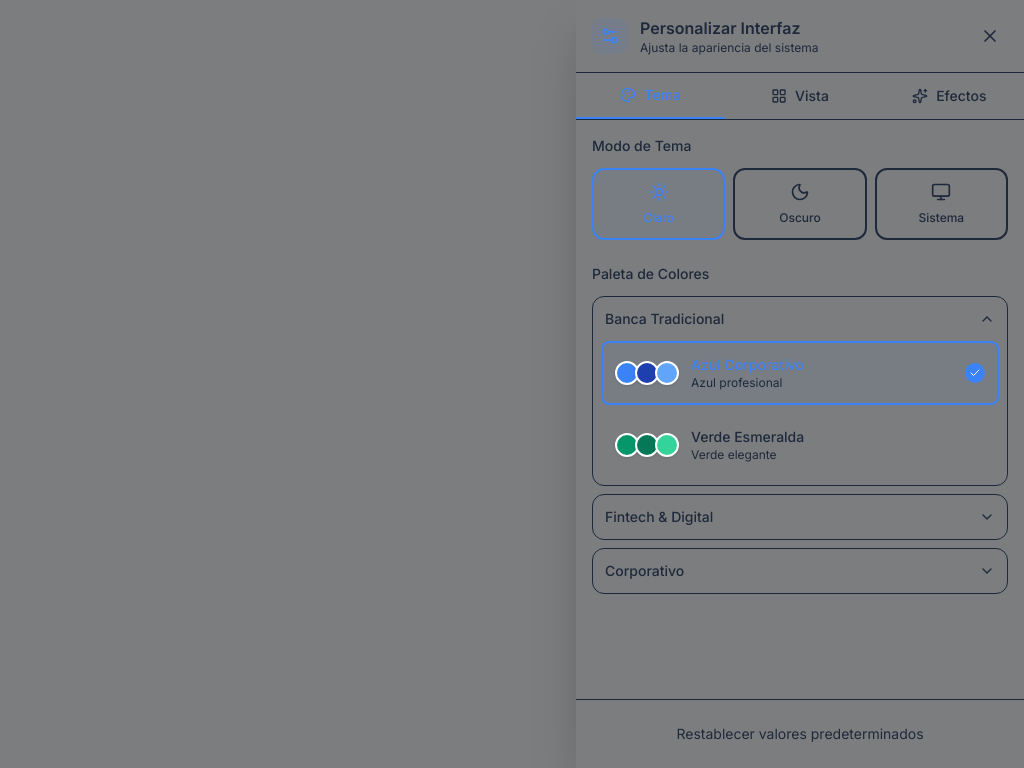
UISettingsPanel › Theme Tab › debe expandir/colapsar categorías de paletas
Expected: the text "Azul Corporativo" is shown, [691,356,804,373]
# Click to collapse
Click the button "Banca Tradicional". click: coordinates (665, 318)
box: [593,297,1007,341]
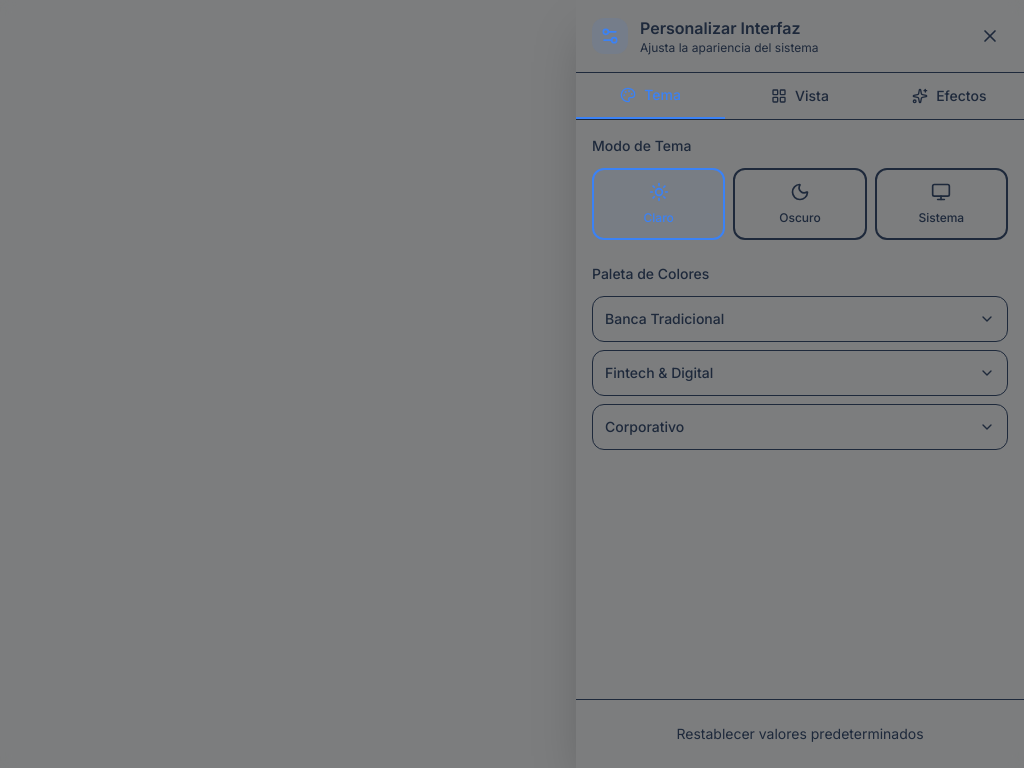
Expected: the button "Azul Corporativo" is gone
# Click to expand again
Click the button "Banca Tradicional". click: coordinates (665, 318)
box: [593,297,1007,341]
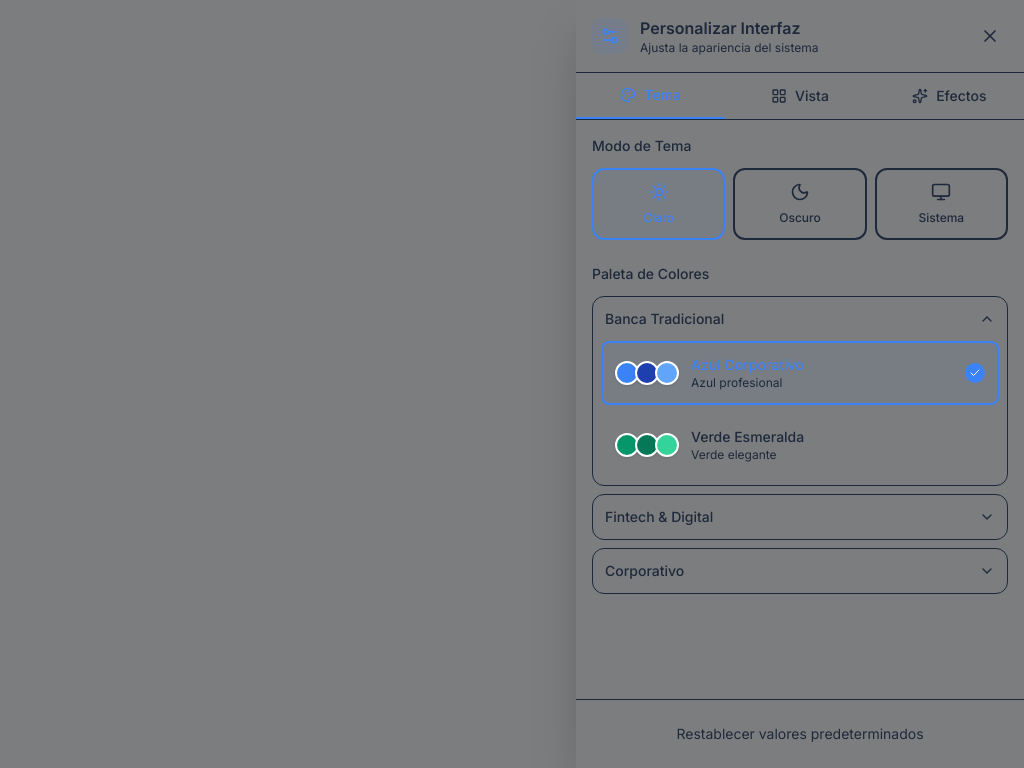
Expected: the text "Azul Corporativo" is shown, [691,356,804,373]
